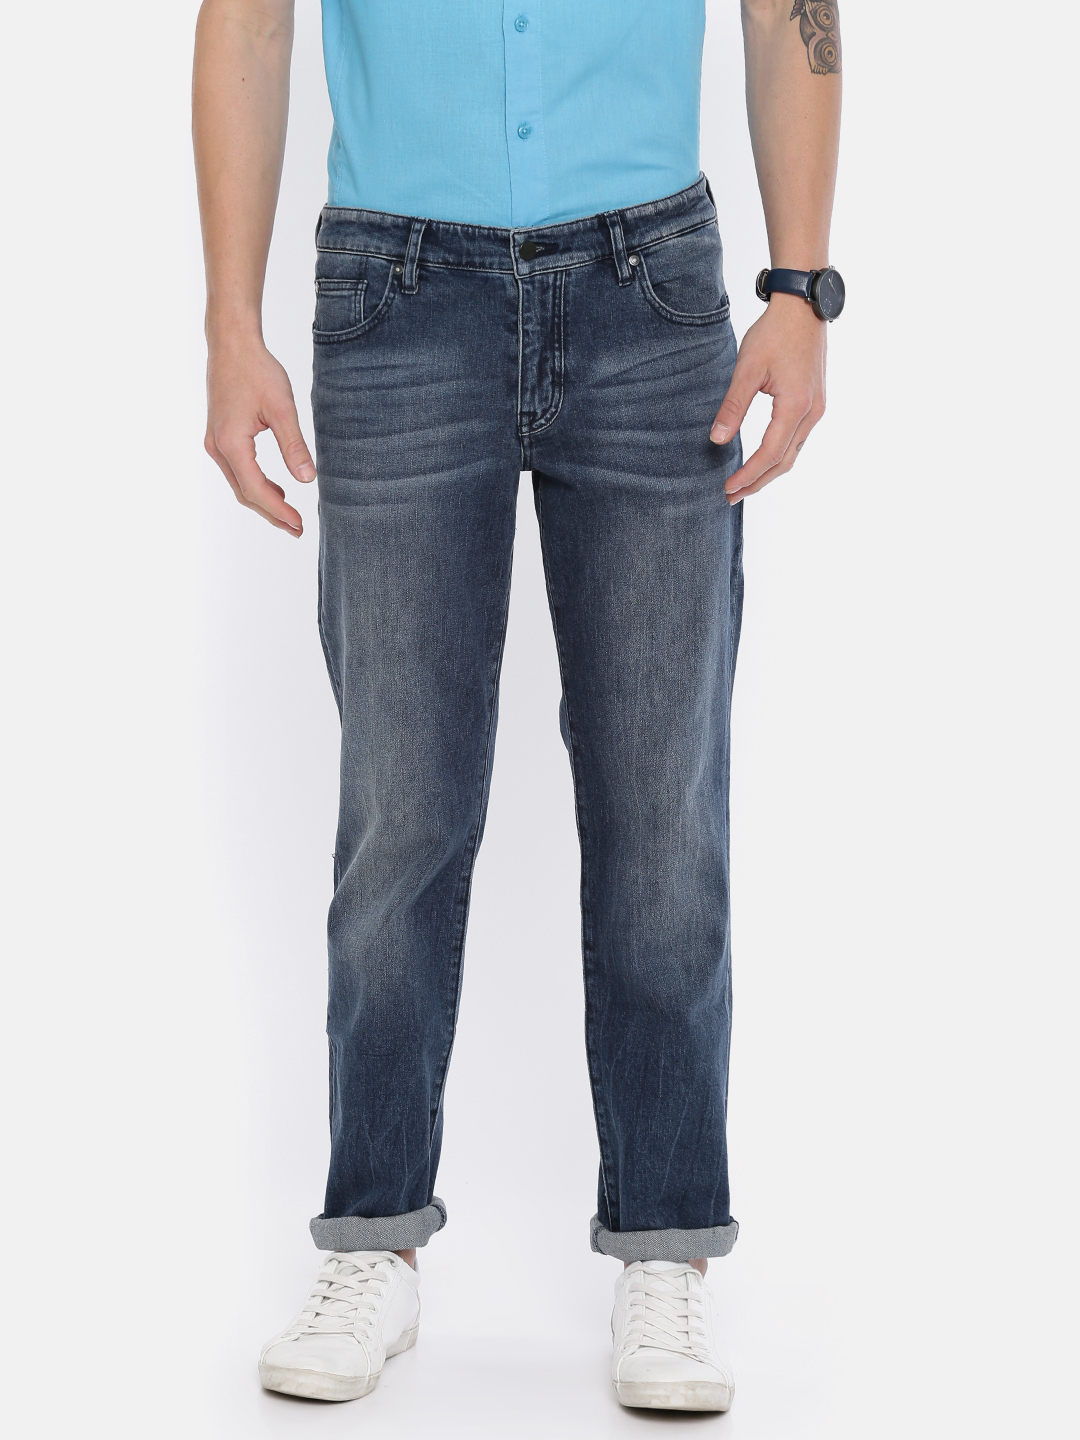jeans: (318, 197, 716, 1247)
